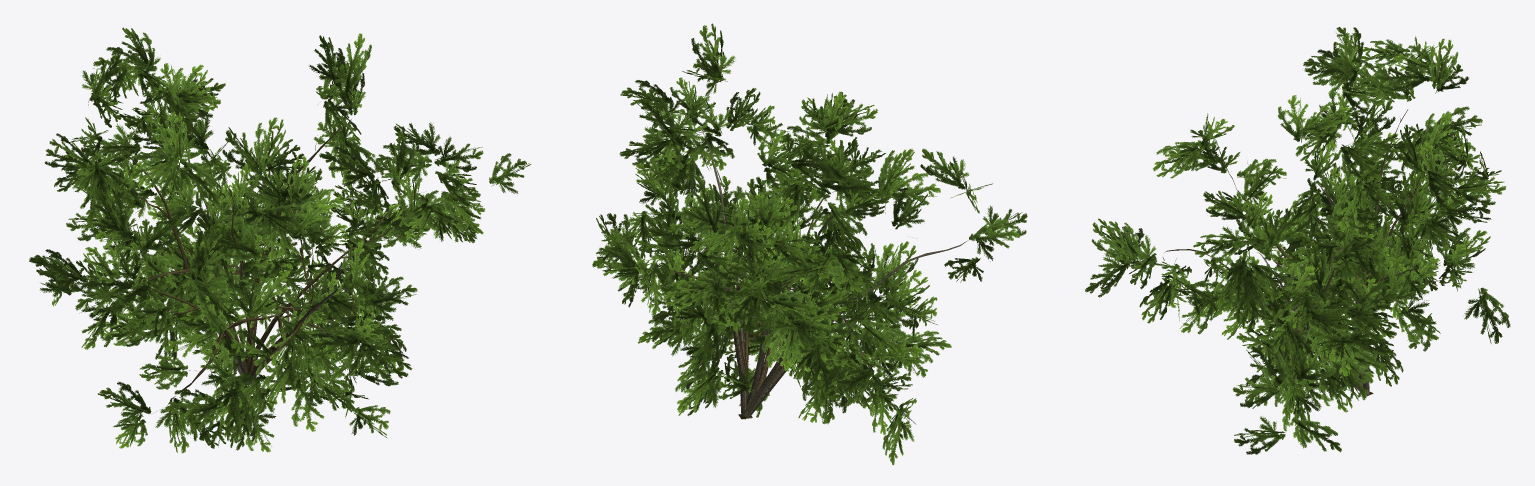
Rendered from tree__v03.glb.
3 renders of one model, left to right at view 1: azimuth 30°, elevation 25°; view 2: azimuth 150°, elevation 25°; view 3: azimuth 270°, elevation 25°, orthographic. The views are drawn at different scales.
Visible parts, largest first — view 1: Tree; view 2: Tree; view 3: Tree.
Part boxes in pixels (x1,y1,x2,y2): Tree: [29, 27, 531, 453]; Tree: [592, 23, 1027, 464]; Tree: [1085, 27, 1510, 454].
Bounding box in the file's own units: 32.92 × 30.07 × 31.9.
2 materials, 2 textured.
